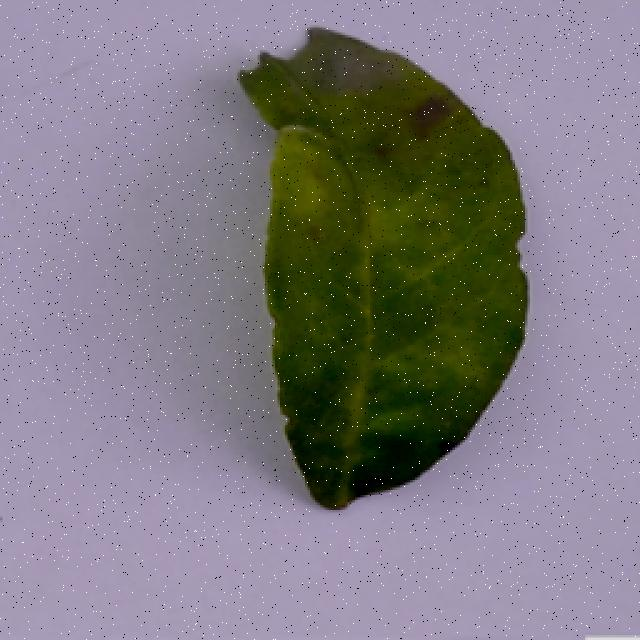blackspot: (221, 19, 546, 522)
